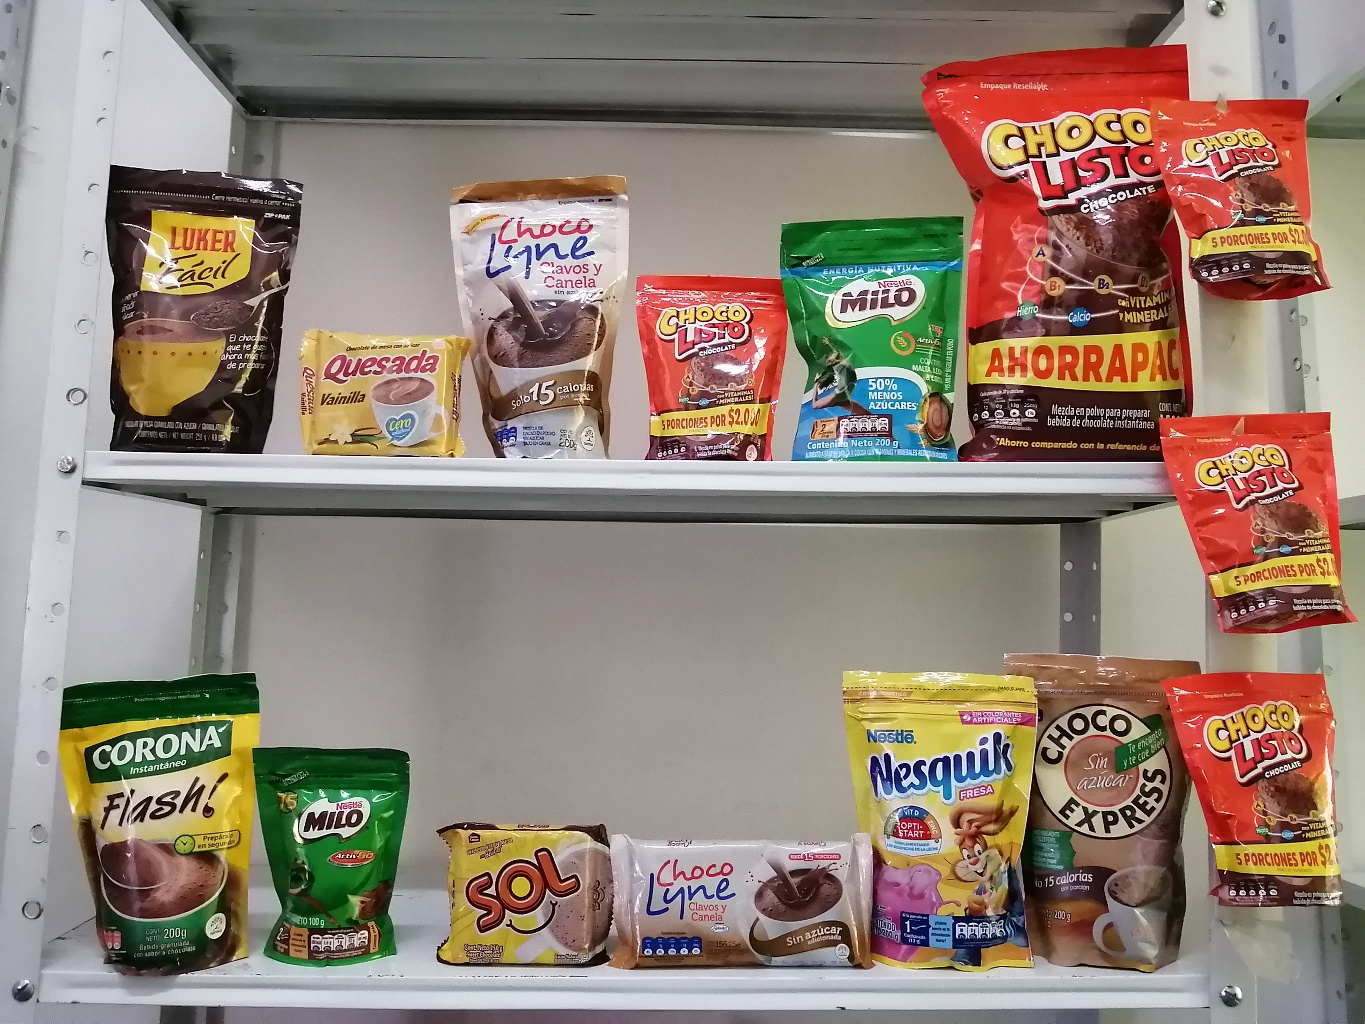COL0170103DYP1,500: (925, 22, 1214, 451)
COL0170203DYP10000: (248, 733, 418, 970)
COL0170205DYP20000: (774, 202, 978, 461)
COL0170305DYP20000: (847, 655, 1034, 964)
